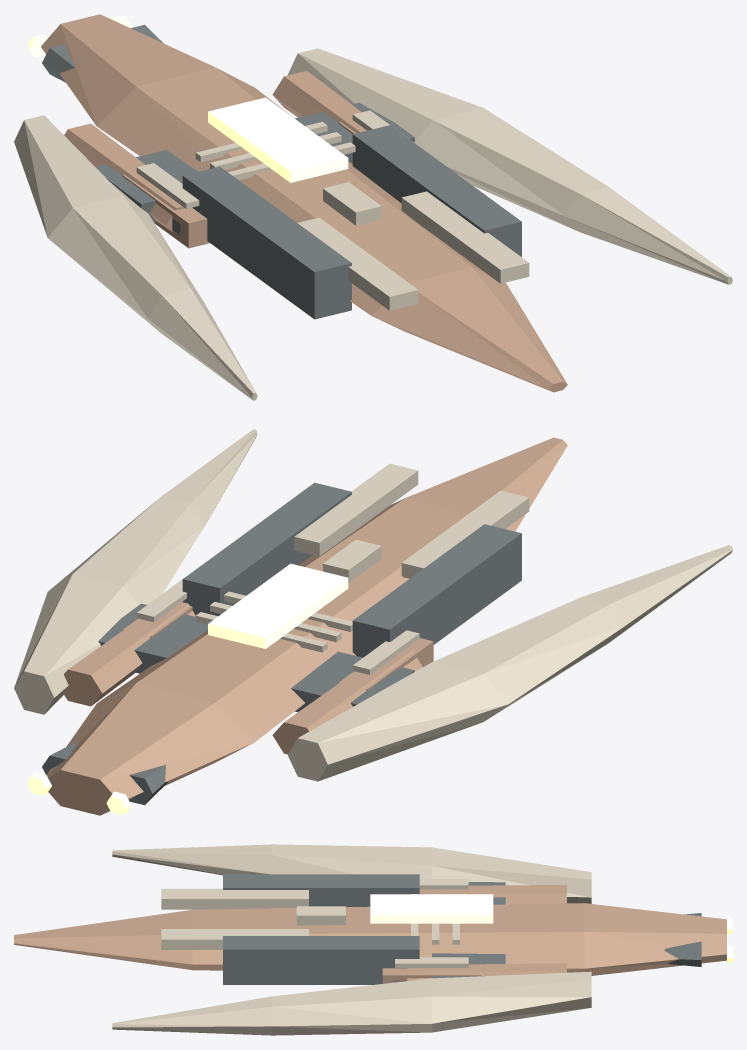
3 views of the same model, one above another, from view 1: azimuth 30°, elevation 25°; view 2: azimuth 150°, elevation 25°; view 3: azimuth 270°, elevation 25° (orthographic). The views are drawn at different scales.
Size of the model in its own units: 7.75 by 1.19 by 13.45.
